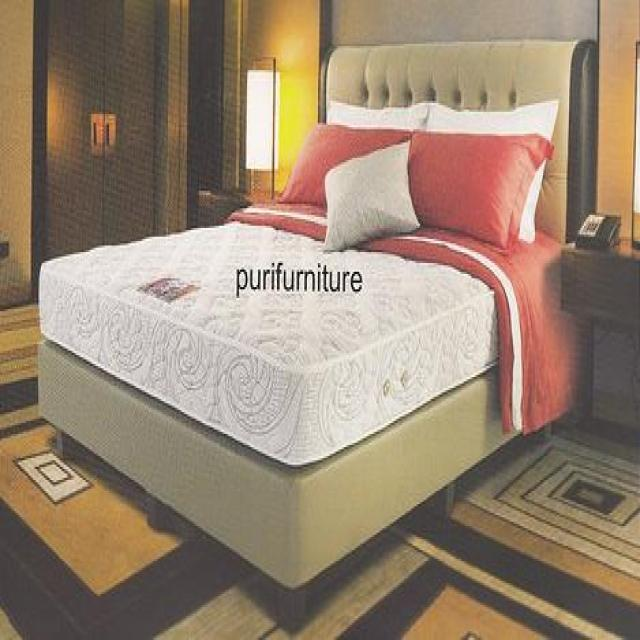bed: (36, 35, 599, 627)
